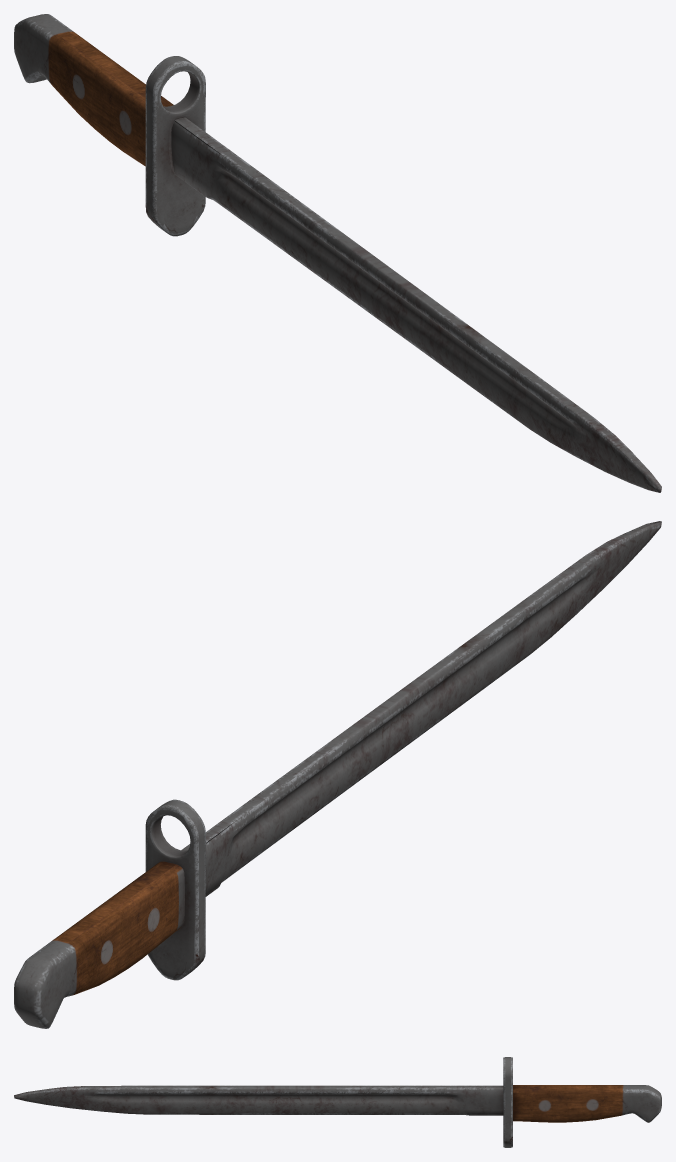
3 views of the same model, one above another, from view 1: azimuth 30°, elevation 25°; view 2: azimuth 150°, elevation 25°; view 3: azimuth 270°, elevation 25° (orthographic). The views are drawn at different scales.
Visible parts, largest first — view 1: Object_2_Baked; view 2: Object_2_Baked; view 3: Object_2_Baked.
Boxes of the visible parts, x1,y1,x2,y2 form: Object_2_Baked: (14,14,661,492); Object_2_Baked: (14,521,661,1028); Object_2_Baked: (14,1057,661,1147).
Size of the model in its own units: 0.3189 by 6.74 by 1.01.
1 material, 1 textured.
